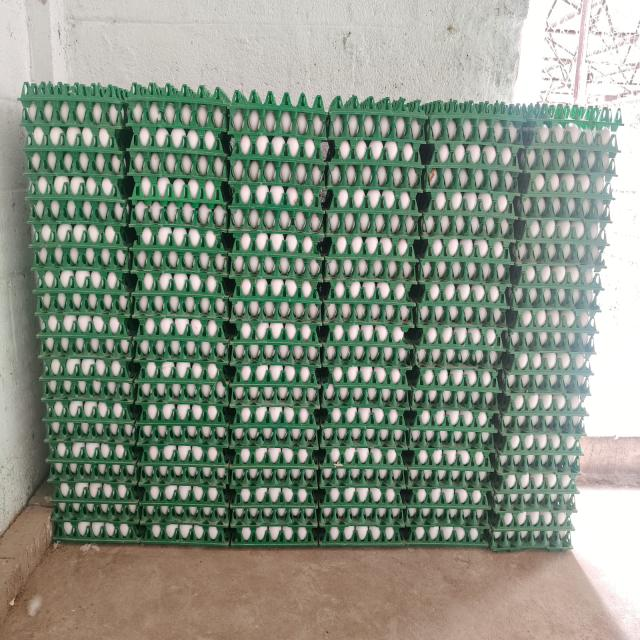egg_tray: (514, 107, 618, 365), (23, 85, 128, 332), (31, 200, 134, 357), (40, 310, 136, 475), (502, 265, 601, 412), (31, 202, 132, 338), (414, 236, 509, 377), (229, 193, 323, 333), (46, 398, 138, 541), (491, 406, 583, 549), (319, 397, 408, 543), (46, 399, 138, 539), (324, 230, 419, 365), (230, 398, 318, 543), (138, 403, 228, 543), (416, 216, 512, 343), (129, 85, 228, 208), (498, 309, 595, 434), (229, 194, 322, 324), (319, 406, 407, 543), (320, 405, 406, 545), (405, 411, 494, 545), (230, 406, 317, 543), (412, 281, 508, 405), (230, 406, 317, 542), (412, 305, 506, 430), (319, 408, 406, 543), (132, 179, 228, 301), (137, 358, 229, 485), (415, 208, 514, 325), (324, 201, 417, 325), (231, 277, 321, 405), (132, 203, 228, 322), (322, 324, 412, 450), (129, 85, 228, 199), (229, 91, 326, 207), (327, 97, 424, 213), (20, 83, 129, 186), (129, 84, 228, 193), (324, 209, 417, 325), (425, 101, 522, 212), (506, 265, 601, 375), (137, 313, 229, 421), (522, 105, 621, 202), (328, 98, 424, 197), (138, 380, 228, 485), (36, 271, 135, 366), (132, 220, 228, 317), (512, 196, 610, 291), (409, 366, 499, 468), (230, 387, 318, 491), (132, 177, 228, 272), (35, 269, 135, 360), (229, 185, 324, 280), (230, 387, 318, 489), (35, 267, 134, 357), (501, 303, 598, 394), (514, 198, 609, 290), (136, 274, 228, 369), (512, 218, 606, 310), (30, 201, 130, 287), (424, 101, 524, 187), (23, 121, 129, 199), (505, 288, 598, 376), (501, 309, 595, 394), (45, 398, 138, 483), (408, 397, 496, 486), (23, 122, 128, 196), (230, 322, 321, 407), (230, 198, 324, 280), (492, 405, 583, 489), (493, 391, 586, 473), (129, 105, 228, 182), (491, 426, 581, 510), (416, 208, 515, 284), (492, 426, 581, 510), (139, 403, 228, 487), (29, 197, 131, 270), (27, 193, 130, 264), (407, 410, 495, 491), (514, 196, 610, 270), (45, 397, 137, 474), (490, 470, 577, 550), (408, 409, 496, 487), (503, 303, 598, 375), (522, 123, 618, 194), (328, 95, 426, 164), (49, 464, 139, 539), (424, 100, 526, 166), (490, 472, 577, 549), (229, 90, 326, 157), (319, 469, 404, 545), (508, 285, 599, 354), (328, 138, 423, 204), (425, 124, 522, 188), (403, 476, 490, 546), (138, 479, 228, 545), (498, 332, 592, 395), (30, 216, 130, 275), (420, 200, 517, 260), (129, 83, 229, 141), (318, 479, 404, 545), (327, 140, 424, 198), (50, 479, 140, 541), (229, 134, 325, 192), (493, 412, 584, 472), (319, 481, 404, 545), (19, 82, 127, 132), (38, 311, 135, 366), (138, 403, 228, 462), (406, 426, 492, 487), (230, 485, 317, 545), (52, 481, 139, 541), (230, 484, 317, 543), (140, 467, 228, 525), (230, 405, 318, 463), (230, 228, 323, 282), (129, 144, 228, 194), (490, 492, 575, 550), (409, 393, 497, 448), (325, 233, 418, 284), (231, 278, 321, 330), (416, 281, 509, 331), (228, 185, 324, 233), (324, 279, 416, 329), (137, 358, 231, 406), (140, 414, 225, 467), (27, 158, 128, 202), (523, 103, 622, 147), (24, 143, 127, 185), (230, 277, 322, 324), (426, 166, 519, 212), (322, 320, 413, 367), (45, 398, 137, 444), (411, 324, 505, 369), (40, 357, 136, 401), (228, 193, 324, 237), (319, 439, 405, 487), (321, 365, 412, 410), (229, 443, 318, 489), (229, 364, 324, 407), (320, 406, 414, 449), (139, 483, 228, 528), (230, 322, 321, 366), (320, 482, 403, 529), (413, 365, 499, 410), (498, 393, 586, 436), (492, 432, 582, 474), (229, 447, 317, 489), (326, 201, 421, 239), (490, 472, 577, 513), (494, 433, 580, 474), (28, 167, 128, 202), (422, 182, 519, 217), (489, 511, 573, 551), (132, 199, 228, 233), (132, 175, 229, 208), (494, 412, 584, 447), (526, 169, 615, 204), (326, 188, 418, 219), (30, 198, 129, 226), (232, 183, 321, 212), (52, 513, 138, 543), (404, 516, 487, 546), (138, 521, 229, 546), (138, 522, 228, 546), (319, 522, 404, 546), (230, 523, 318, 546), (232, 509, 306, 525), (77, 359, 117, 378), (76, 315, 110, 333), (95, 254, 128, 269), (532, 471, 556, 491), (43, 335, 68, 353), (275, 532, 315, 543), (72, 335, 98, 351), (554, 395, 580, 409), (56, 251, 80, 265), (71, 442, 109, 449), (87, 361, 109, 373), (570, 377, 586, 392), (284, 535, 314, 543), (190, 363, 216, 371), (321, 531, 338, 543), (309, 209, 321, 226), (466, 494, 480, 508), (92, 103, 108, 115), (260, 210, 276, 222), (463, 391, 476, 405), (485, 334, 499, 347), (62, 244, 81, 253), (93, 103, 108, 114), (405, 222, 417, 235), (78, 359, 90, 371), (56, 292, 67, 305), (102, 337, 113, 350), (352, 535, 372, 542), (524, 395, 537, 405), (504, 479, 514, 491), (110, 361, 117, 377), (416, 472, 432, 479), (74, 180, 86, 189), (357, 367, 372, 374), (70, 293, 81, 302), (395, 223, 405, 232), (34, 133, 42, 144), (361, 225, 372, 233), (111, 443, 125, 449), (544, 393, 552, 403), (538, 417, 548, 425), (328, 203, 333, 218), (242, 388, 254, 394), (494, 494, 502, 503), (184, 306, 194, 313), (285, 453, 292, 463), (371, 390, 384, 395), (560, 396, 573, 401), (523, 198, 531, 206), (93, 294, 100, 303), (373, 454, 380, 463), (448, 120, 455, 129), (350, 389, 362, 394), (449, 156, 461, 161), (364, 367, 372, 374), (332, 407, 340, 414), (506, 481, 513, 489), (245, 521, 263, 524), (373, 531, 379, 540), (560, 359, 570, 364), (92, 366, 102, 371), (340, 213, 345, 223), (150, 451, 157, 458), (456, 370, 463, 377), (503, 221, 510, 228), (353, 225, 360, 232), (352, 367, 360, 373), (231, 388, 237, 396), (514, 502, 522, 508), (357, 407, 363, 415), (278, 211, 290, 215), (400, 391, 408, 397), (428, 335, 436, 341), (457, 335, 466, 340), (203, 411, 210, 417), (385, 229, 392, 235), (98, 469, 106, 474), (56, 294, 61, 302), (298, 210, 306, 215), (496, 436, 500, 445), (121, 369, 127, 375), (554, 440, 559, 447), (42, 148, 49, 153), (94, 361, 105, 364), (479, 265, 487, 269), (108, 467, 114, 472), (549, 429, 555, 434), (520, 434, 530, 437), (110, 105, 116, 110), (81, 359, 87, 364), (276, 389, 282, 394), (540, 440, 546, 445), (502, 285, 508, 290), (92, 345, 97, 351), (119, 209, 125, 214), (107, 531, 112, 537), (119, 103, 124, 109), (464, 150, 469, 156), (489, 218, 494, 224), (85, 469, 92, 473), (496, 436, 500, 443), (454, 474, 459, 479), (39, 277, 44, 282), (111, 104, 116, 109), (126, 471, 132, 475), (465, 121, 471, 125), (171, 308, 177, 312), (46, 245, 52, 249), (522, 485, 528, 489), (163, 274, 171, 277), (552, 417, 557, 421), (187, 134, 192, 138), (216, 115, 220, 120), (103, 187, 108, 191), (533, 354, 538, 358), (90, 236, 93, 242), (281, 505, 287, 508), (254, 505, 260, 508), (522, 431, 528, 434), (473, 444, 479, 447), (112, 363, 115, 369), (199, 408, 202, 414), (161, 319, 170, 321), (105, 211, 108, 217), (61, 273, 64, 279), (330, 461, 334, 465), (176, 363, 184, 365), (222, 249, 226, 253), (74, 181, 78, 185), (180, 345, 184, 349), (88, 206, 92, 210), (97, 308, 105, 310), (132, 97, 136, 101), (86, 276, 90, 280), (524, 434, 532, 436), (85, 469, 90, 472), (432, 123, 437, 126), (139, 307, 144, 310), (218, 409, 221, 414), (190, 407, 193, 412), (511, 500, 516, 503), (111, 153, 116, 156), (355, 214, 358, 219), (376, 229, 381, 232), (314, 389, 316, 396), (50, 180, 52, 187), (116, 470, 119, 474), (100, 470, 104, 473), (231, 390, 234, 394), (96, 247, 99, 251), (223, 293, 226, 297), (560, 431, 564, 434), (535, 470, 539, 473), (37, 311, 40, 315), (68, 359, 72, 362), (372, 155, 375, 159), (119, 295, 122, 299), (334, 214, 337, 218), (352, 367, 356, 370), (524, 485, 528, 488), (514, 163, 517, 167), (400, 219, 404, 222), (423, 342, 426, 346), (546, 361, 549, 365), (315, 389, 317, 394), (523, 431, 528, 433), (224, 343, 226, 348), (116, 455, 121, 457), (194, 486, 199, 488), (37, 311, 40, 314), (497, 123, 500, 126), (72, 138, 75, 141), (198, 299, 201, 302), (305, 336, 308, 339), (587, 335, 590, 338), (63, 205, 66, 208), (68, 202, 71, 205), (44, 273, 47, 276), (183, 132, 186, 135), (521, 485, 524, 488), (51, 443, 54, 446), (563, 376, 567, 378), (232, 399, 234, 403), (354, 210, 356, 214), (48, 277, 50, 281), (202, 90, 206, 92), (386, 219, 388, 223), (115, 537, 119, 539), (222, 116, 226, 118), (542, 354, 546, 356), (446, 500, 450, 502), (542, 389, 549, 390), (616, 117, 619, 119), (32, 184, 34, 187), (414, 227, 416, 230), (206, 454, 208, 457), (247, 388, 250, 390), (351, 210, 354, 212), (67, 114, 70, 116), (120, 105, 122, 108), (105, 183, 107, 186), (58, 181, 60, 184), (54, 180, 55, 186), (505, 470, 508, 472), (120, 159, 122, 162), (78, 146, 81, 148), (232, 153, 235, 155), (90, 454, 92, 457), (101, 335, 104, 337), (151, 98, 154, 100), (43, 212, 44, 218), (112, 209, 114, 212), (47, 271, 50, 273), (348, 213, 351, 215), (549, 395, 552, 397), (68, 465, 71, 467), (57, 443, 60, 445), (232, 399, 233, 404), (159, 178, 164, 179), (150, 85, 151, 90), (84, 310, 86, 312), (392, 459, 394, 461), (583, 276, 584, 280), (500, 132, 502, 134), (353, 238, 357, 239), (442, 394, 444, 396), (496, 444, 498, 446), (232, 389, 233, 393), (72, 188, 73, 192), (551, 472, 553, 474), (196, 416, 198, 418), (28, 151, 29, 155), (294, 212, 296, 214), (52, 359, 54, 361), (106, 308, 108, 310), (160, 145, 164, 146), (346, 214, 348, 216), (338, 390, 340, 392), (80, 530, 81, 534), (213, 107, 215, 109), (559, 151, 563, 152), (328, 459, 329, 462), (107, 254, 108, 257), (41, 246, 42, 249), (485, 415, 486, 418), (51, 158, 52, 161), (105, 149, 108, 150), (43, 316, 44, 319), (512, 396, 513, 399), (392, 219, 395, 220), (556, 384, 557, 386), (576, 363, 578, 364), (571, 358, 572, 360), (571, 361, 572, 363), (88, 300, 90, 301), (116, 471, 118, 472), (93, 469, 95, 470), (327, 462, 329, 463), (45, 373, 46, 375), (70, 246, 71, 248), (53, 249, 54, 251), (235, 532, 237, 533), (242, 367, 244, 368), (204, 311, 206, 312), (476, 401, 477, 403), (345, 211, 347, 212), (108, 116, 110, 117), (111, 113, 112, 115), (245, 329, 247, 330), (288, 391, 290, 392), (248, 389, 250, 390), (524, 508, 526, 509), (164, 405, 166, 406), (354, 409, 356, 410), (236, 178, 238, 179), (361, 146, 362, 148), (350, 144, 351, 146), (90, 213, 92, 214), (73, 203, 74, 205), (490, 403, 491, 405), (296, 536, 297, 538), (532, 471, 534, 472), (330, 229, 332, 230), (533, 436, 535, 437), (118, 112, 120, 113), (59, 191, 61, 192), (572, 400, 573, 402), (174, 187, 175, 189), (484, 412, 486, 413), (125, 473, 126, 474), (176, 449, 177, 450), (234, 538, 235, 539), (535, 523, 536, 524), (164, 305, 165, 306), (534, 447, 535, 448), (274, 530, 275, 531), (209, 407, 210, 408), (163, 407, 164, 408), (111, 323, 112, 324), (154, 138, 155, 139), (334, 220, 335, 221), (88, 191, 89, 192), (520, 396, 521, 397), (193, 278, 194, 279), (530, 384, 530, 386), (516, 354, 517, 354), (129, 474, 130, 474), (412, 225, 412, 226), (498, 323, 499, 323), (480, 179, 481, 179), (154, 536, 154, 537), (285, 523, 286, 523), (270, 390, 270, 390), (245, 403, 245, 403), (521, 434, 521, 435), (179, 179, 179, 179), (445, 447, 446, 447), (323, 127, 323, 130), (556, 443, 556, 444), (520, 434, 522, 434), (159, 363, 171, 363), (148, 363, 154, 363), (276, 401, 276, 401), (200, 407, 203, 407), (572, 471, 572, 472), (363, 530, 364, 530), (103, 167, 107, 167), (64, 154, 66, 154), (29, 148, 30, 148), (454, 381, 454, 382), (514, 283, 515, 283), (236, 210, 237, 210), (476, 334, 476, 335), (46, 365, 46, 365), (74, 363, 74, 363), (50, 285, 50, 285), (116, 332, 117, 332), (403, 207, 406, 207), (201, 88, 201, 89), (578, 296, 579, 296), (111, 274, 114, 274), (512, 436, 512, 437), (508, 518, 508, 519), (108, 528, 108, 529), (56, 463, 57, 463), (252, 410, 253, 410), (212, 124, 212, 126), (101, 185, 101, 186), (346, 229, 346, 230), (572, 404, 572, 405), (485, 221, 485, 221), (519, 398, 519, 399), (138, 294, 139, 294), (174, 275, 174, 277)
